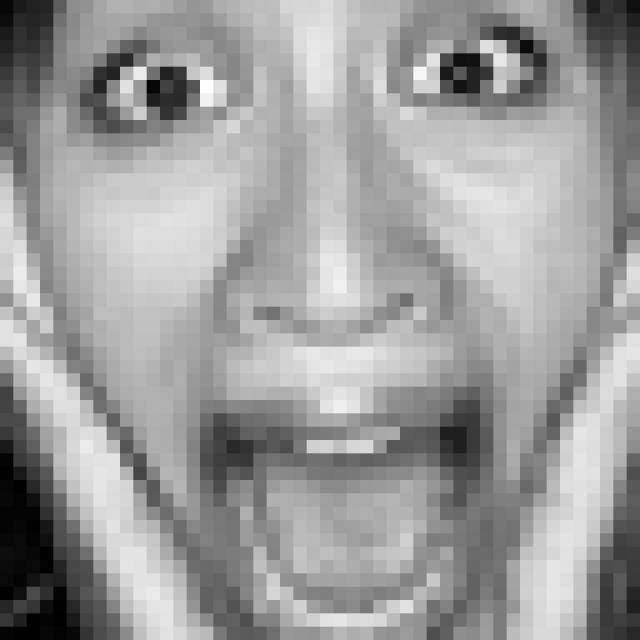fear: (77, 0, 558, 640)
